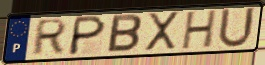B: (105, 13, 144, 54)
H: (179, 8, 220, 51)
P: (65, 14, 108, 57)
R: (29, 17, 70, 57)
U: (216, 6, 257, 51)
X: (144, 10, 181, 53)
